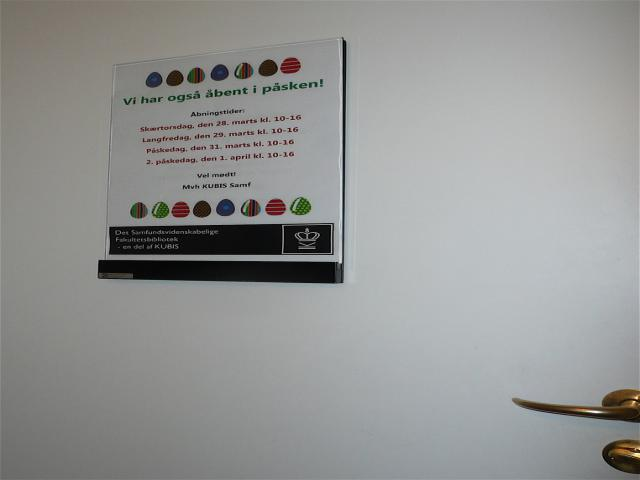Door-handle: (507, 386, 640, 422), (600, 438, 640, 475)
